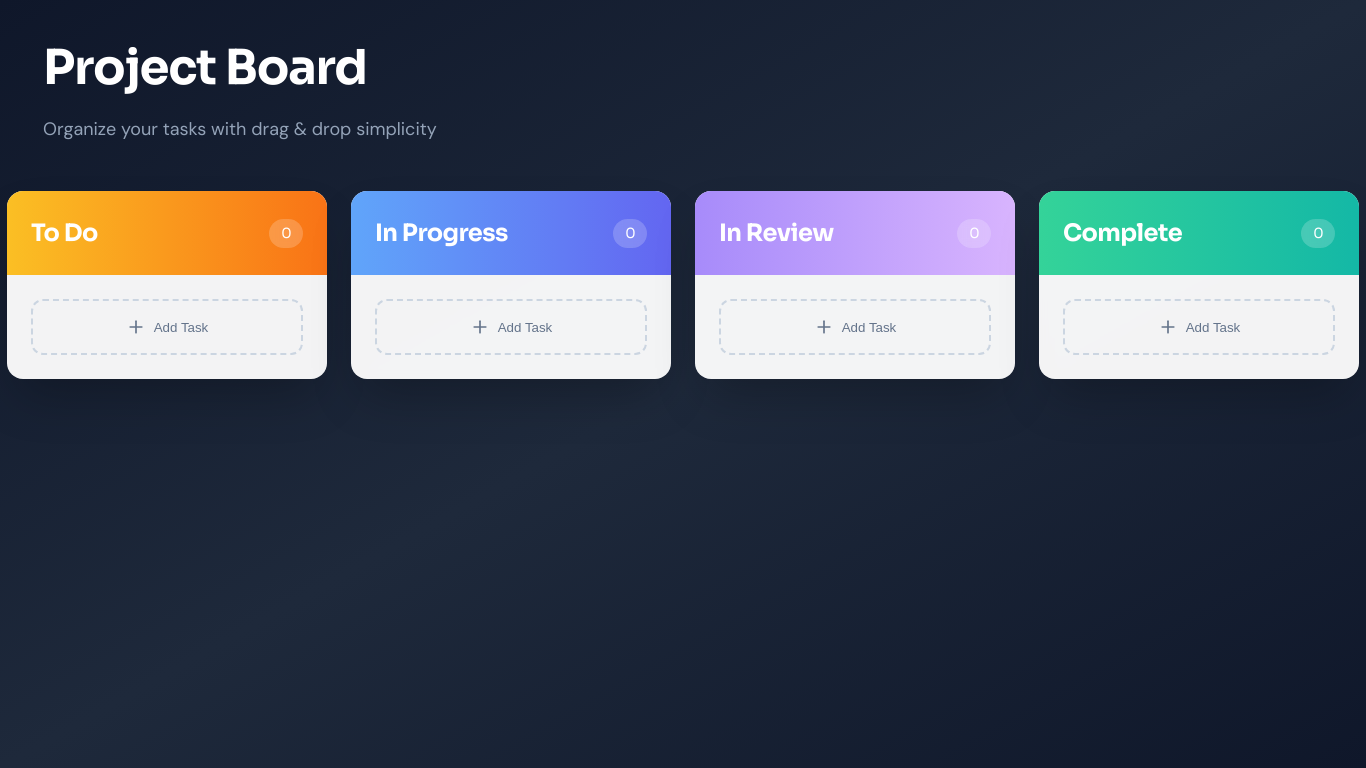
App › Adding Tasks › updates task count after adding
Check: the text "0" is shown 4 times, box x1=269 y1=218 x2=303 y2=248; x1=613 y1=218 x2=647 y2=248; x1=957 y1=218 x2=991 y2=248; x1=1301 y1=218 x2=1335 y2=248
Note: Add a task
Click the button "Add Task" below "To Do" at (167, 327), box x1=31 y1=299 x2=303 y2=355
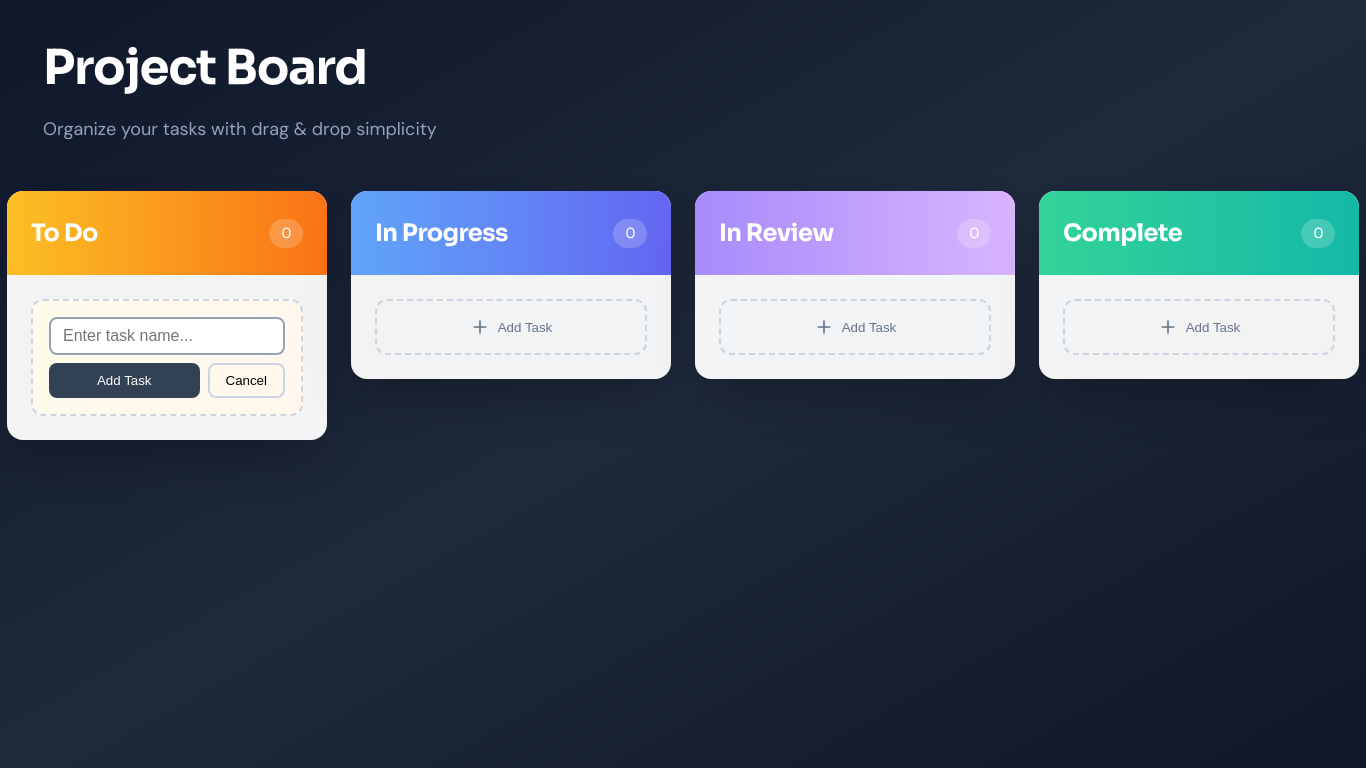
Type "Task" into the field with placeholder "Enter task name..." at (167, 336), box x1=49 y1=317 x2=285 y2=355
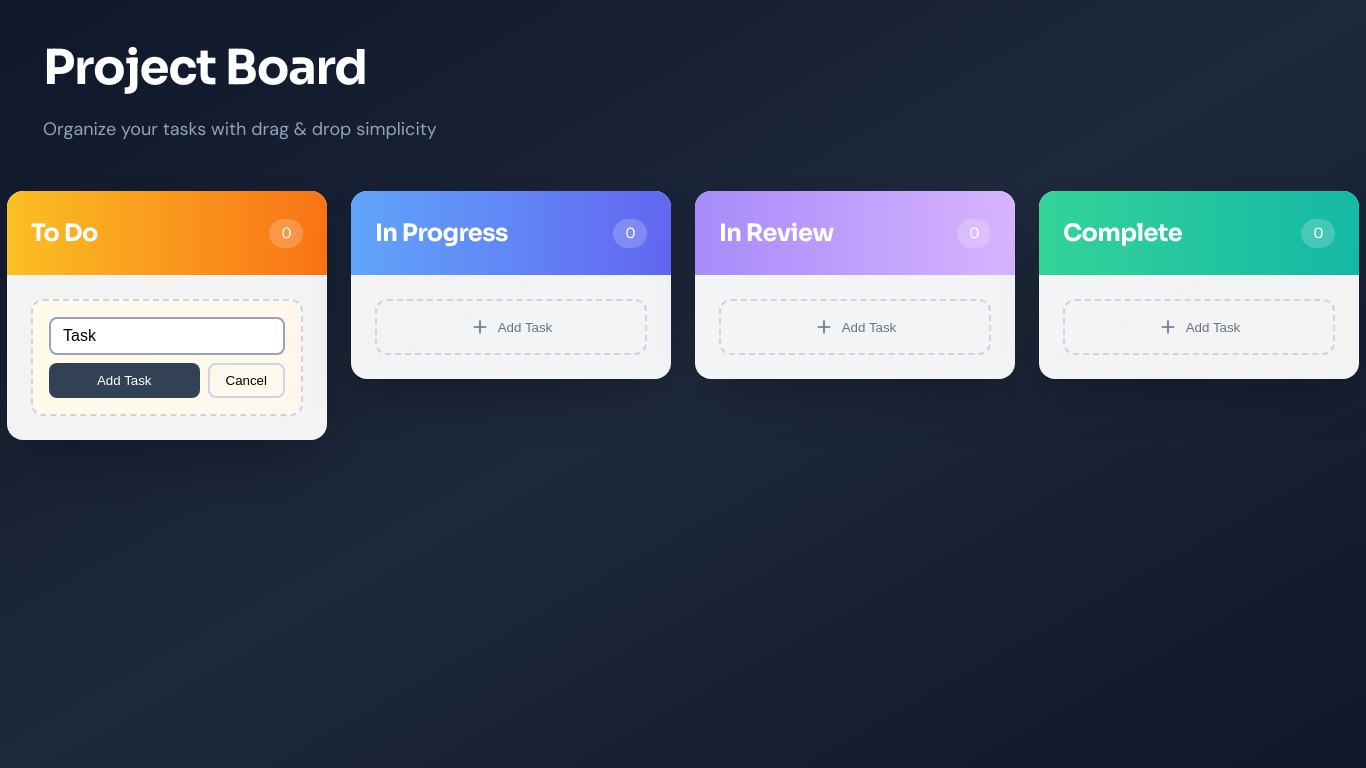
Press Enter in the field with placeholder "Enter task name...", box x1=49 y1=317 x2=285 y2=355
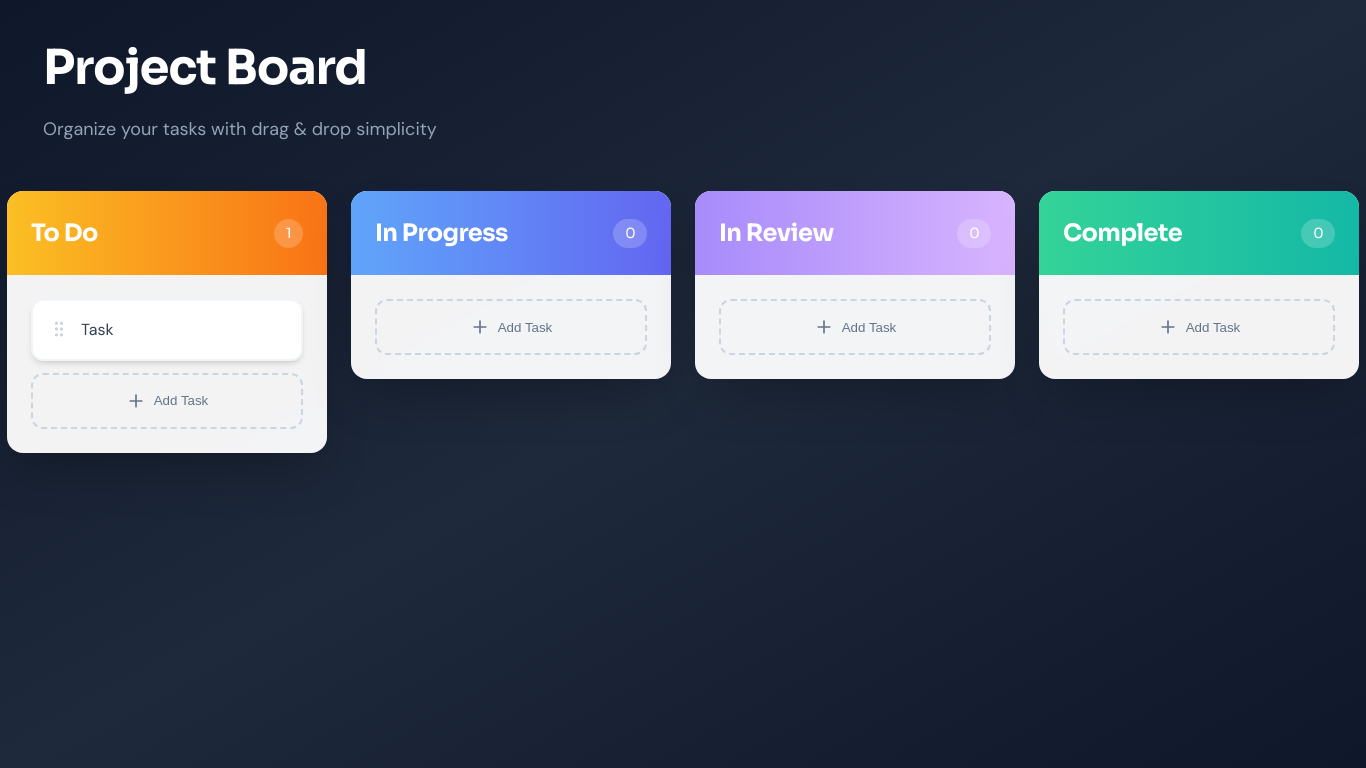
Check: the text "0" is shown 3 times, box x1=613 y1=218 x2=647 y2=248; x1=957 y1=218 x2=991 y2=248; x1=1301 y1=218 x2=1335 y2=248
Check: the text "1" is shown, box x1=274 y1=218 x2=303 y2=248
